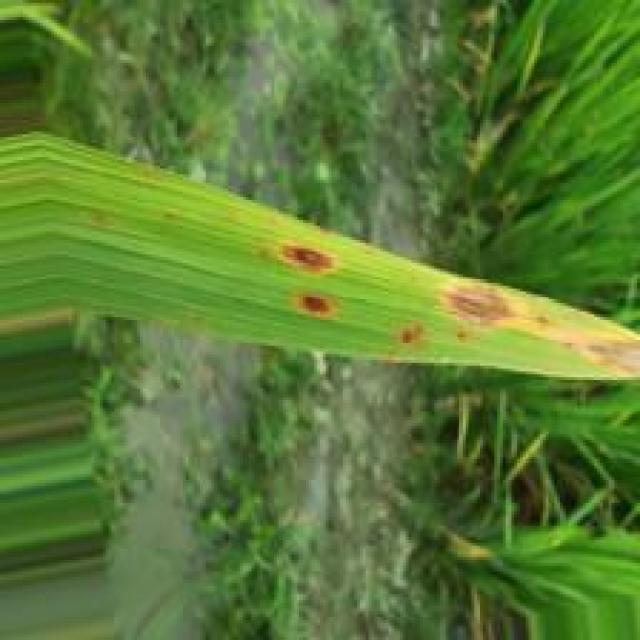Brown_Spot: (437, 280, 518, 329), (567, 338, 639, 375), (271, 242, 343, 275), (294, 291, 332, 322), (399, 323, 424, 350), (454, 328, 472, 346), (536, 314, 550, 328)
